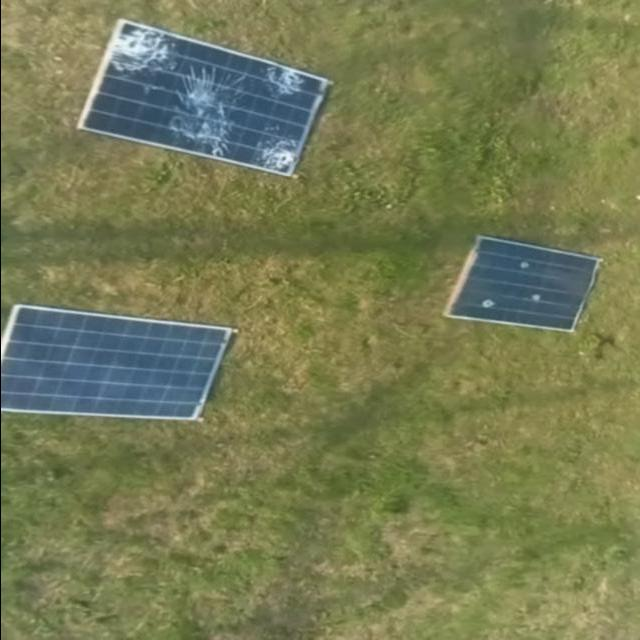cracked: (79, 30, 339, 167)
soiled: (441, 238, 609, 332)
